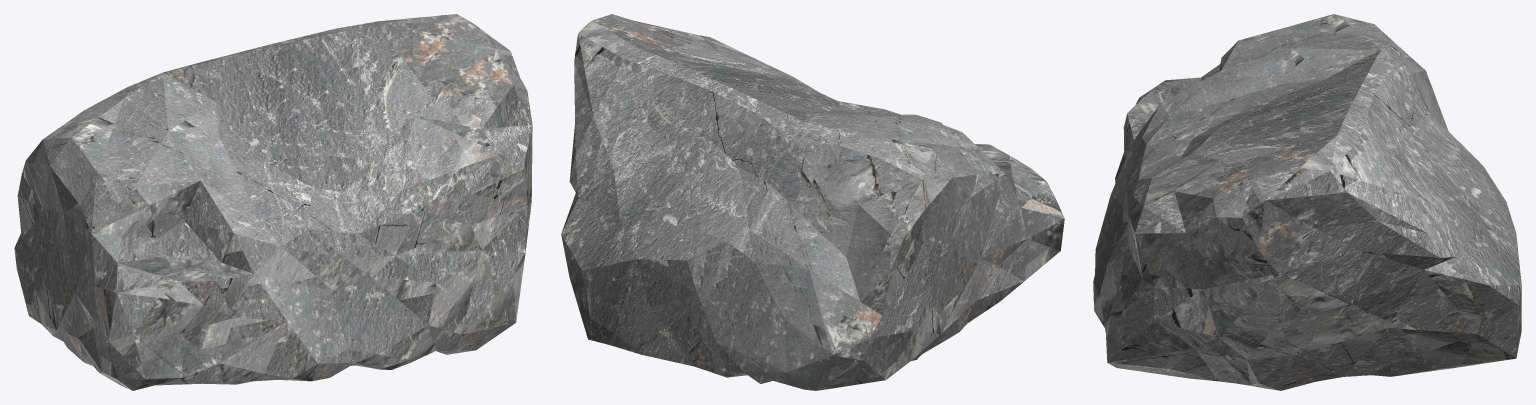
Rendered from Rock 1.obj.
3 views of the same model, side by side, from view 1: azimuth 30°, elevation 25°; view 2: azimuth 150°, elevation 25°; view 3: azimuth 270°, elevation 25° (orthographic). The views are drawn at different scales.
Parts seen in each view (by area): view 1: Mesh1 skp125_1 Model; view 2: Mesh1 skp125_1 Model; view 3: Mesh1 skp125_1 Model.
Part boxes in pixels (x1=…): Mesh1 skp125_1 Model: x1=14, y1=14, x2=532, y2=390; Mesh1 skp125_1 Model: x1=561, y1=14, x2=1064, y2=390; Mesh1 skp125_1 Model: x1=1093, y1=14, x2=1521, y2=390.
Size of the model in its own units: 1058 by 561 by 851.
Materials: 1 (1 with a texture image).
